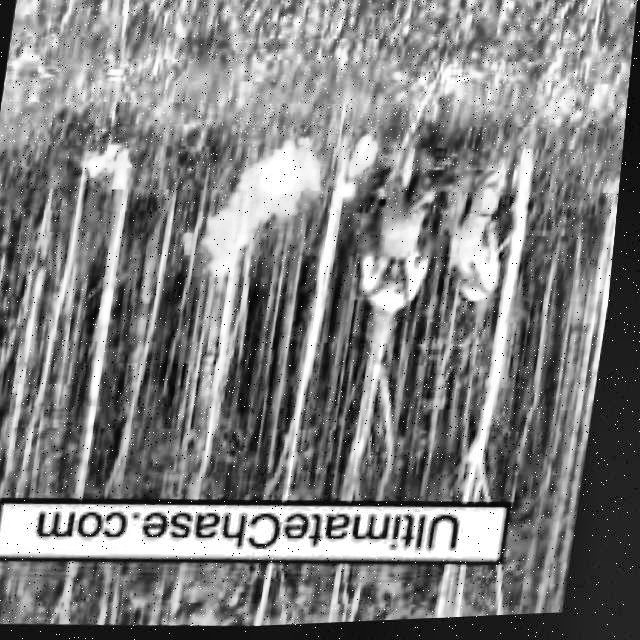Smoke: (191, 139, 331, 302), (329, 135, 385, 217), (82, 132, 144, 199)
